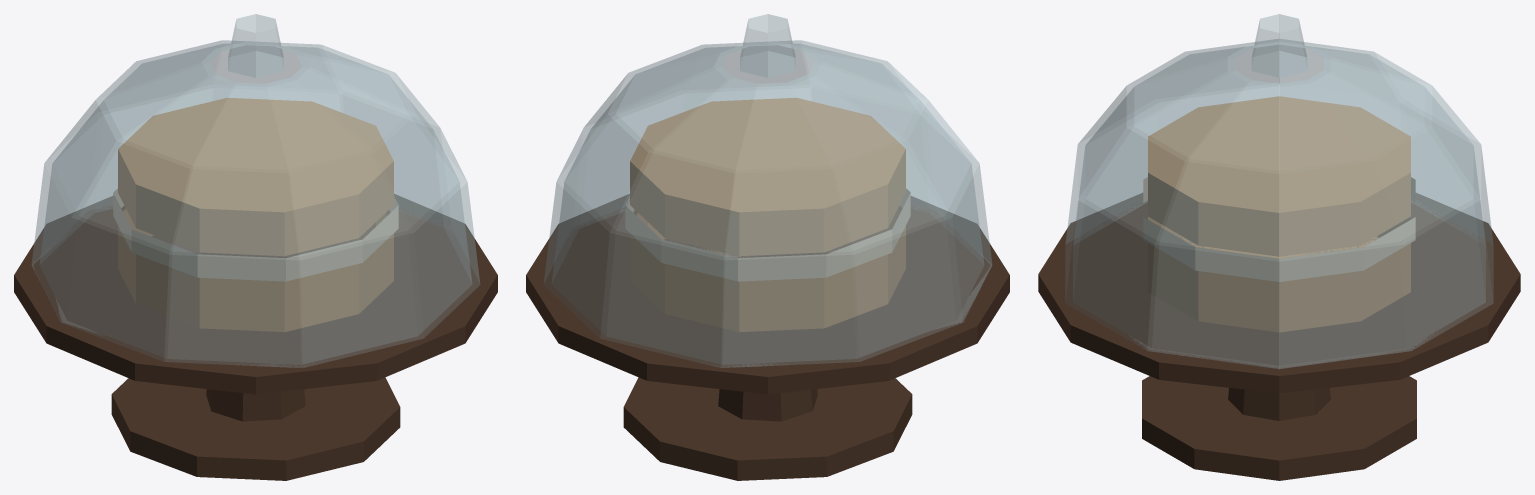
Rendered from FN_Stand_Cake.obj.
3 renders of one model, left to right at view 1: azimuth 30°, elevation 25°; view 2: azimuth 150°, elevation 25°; view 3: azimuth 270°, elevation 25°, orthographic.
Parts seen in each view (by area): view 1: FN_Stand_Cake; view 2: FN_Stand_Cake; view 3: FN_Stand_Cake.
Boxes of the visible parts, bbox=[...] form: FN_Stand_Cake: bbox=[14, 14, 497, 480]; FN_Stand_Cake: bbox=[526, 14, 1009, 480]; FN_Stand_Cake: bbox=[1038, 14, 1520, 480].
Size of the model in its own units: 0.3 by 0.272 by 0.3.
Materials: 2 (1 with a texture image).
